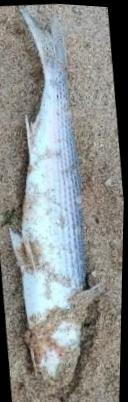fish: (10, 3, 95, 389)
